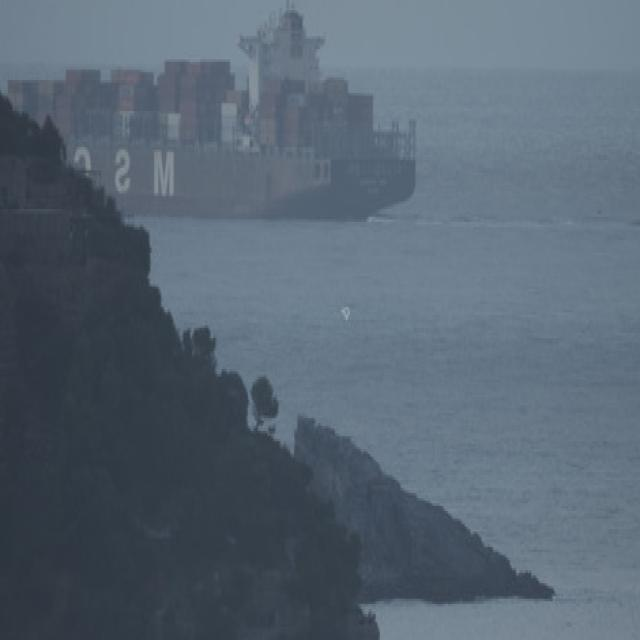cargoship: (7, 0, 421, 225)
